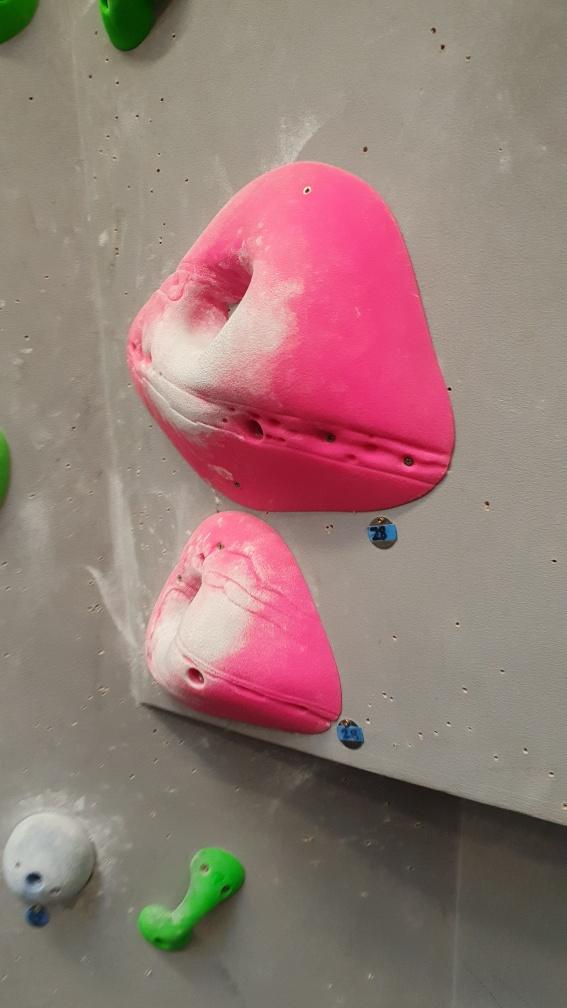Hand Start: (363, 513, 403, 554), (336, 718, 371, 754)
Pocket: (125, 160, 462, 515), (146, 507, 347, 740)
